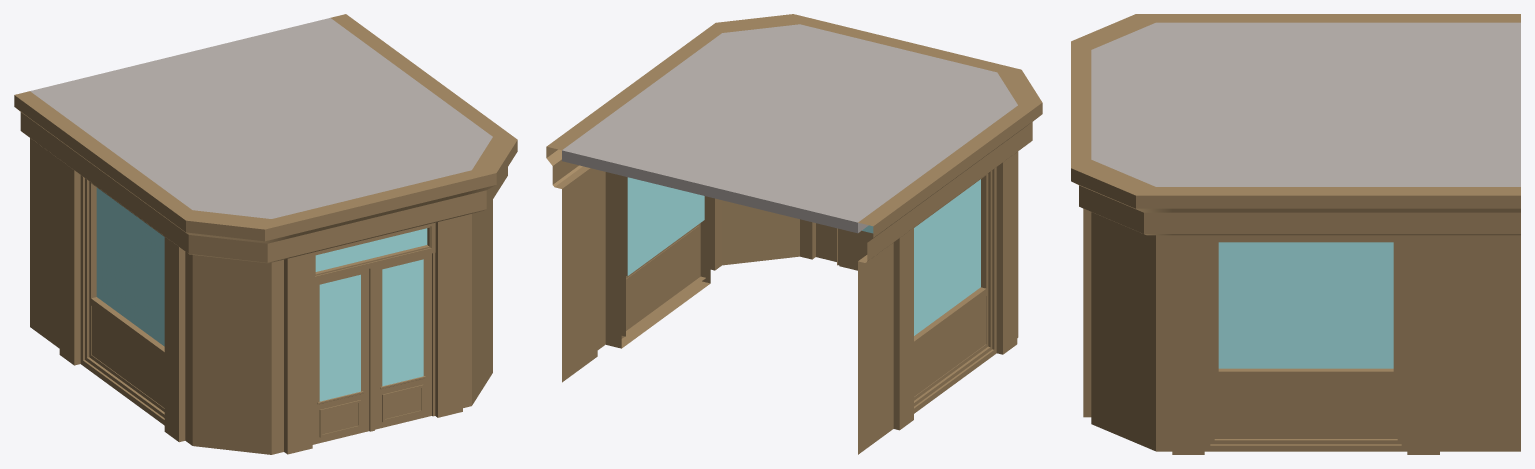
Rendered from oldtown_cafe_temp.fbx.
3 renders of one model, left to right at view 1: azimuth 30°, elevation 25°; view 2: azimuth 150°, elevation 25°; view 3: azimuth 270°, elevation 25°, orthographic. The views are drawn at different scales.
Visible parts, largest first — view 1: old_town_cafe_merge_test; view 2: old_town_cafe_merge_test; view 3: old_town_cafe_merge_test.
Part boxes in pixels (x1,y1,x2,y2): old_town_cafe_merge_test: (14, 14, 517, 454); old_town_cafe_merge_test: (546, 14, 1042, 454); old_town_cafe_merge_test: (1071, 14, 1520, 454).
Bounding box in the file's own units: 530 × 360 × 555.
